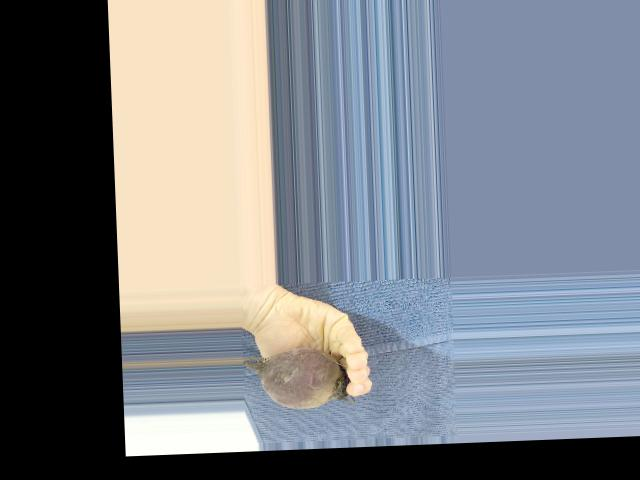beet: (243, 345, 356, 410)
